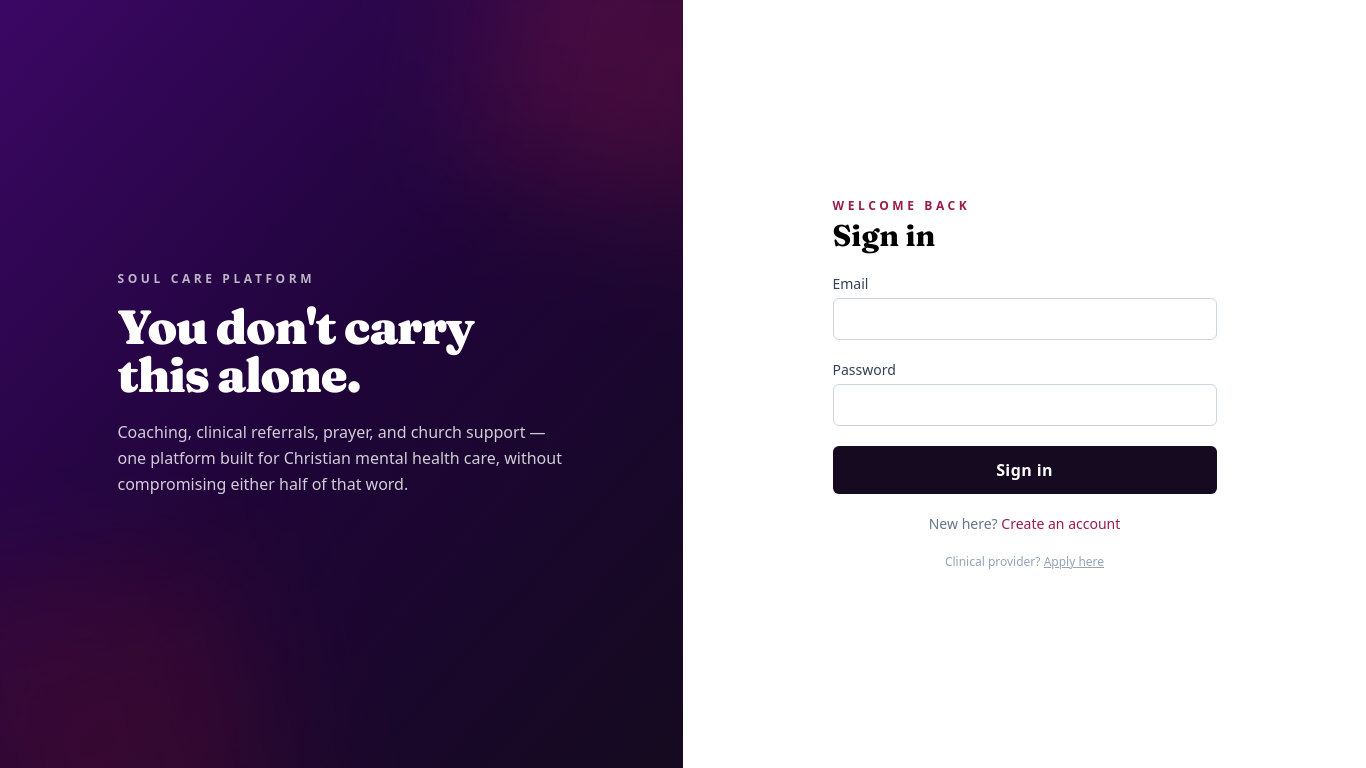
Test: App — login flow › logs in as a coach and reaches the coach dashboard
In the field labelled "Email": (1024, 319) [832,298,1216,340], type "coach@example.com"
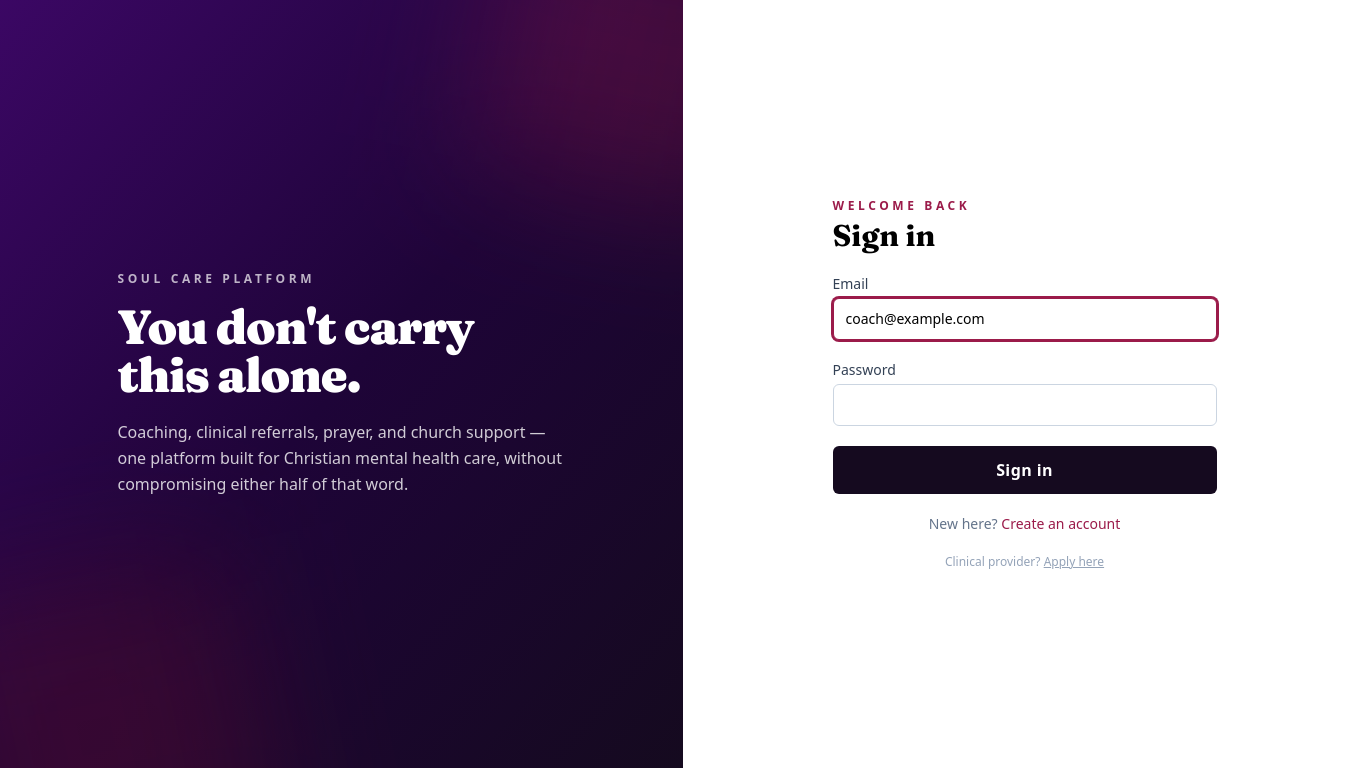
In the password field labelled "Password": (1024, 405) [832,384,1216,426], type "correcthorsebattery"
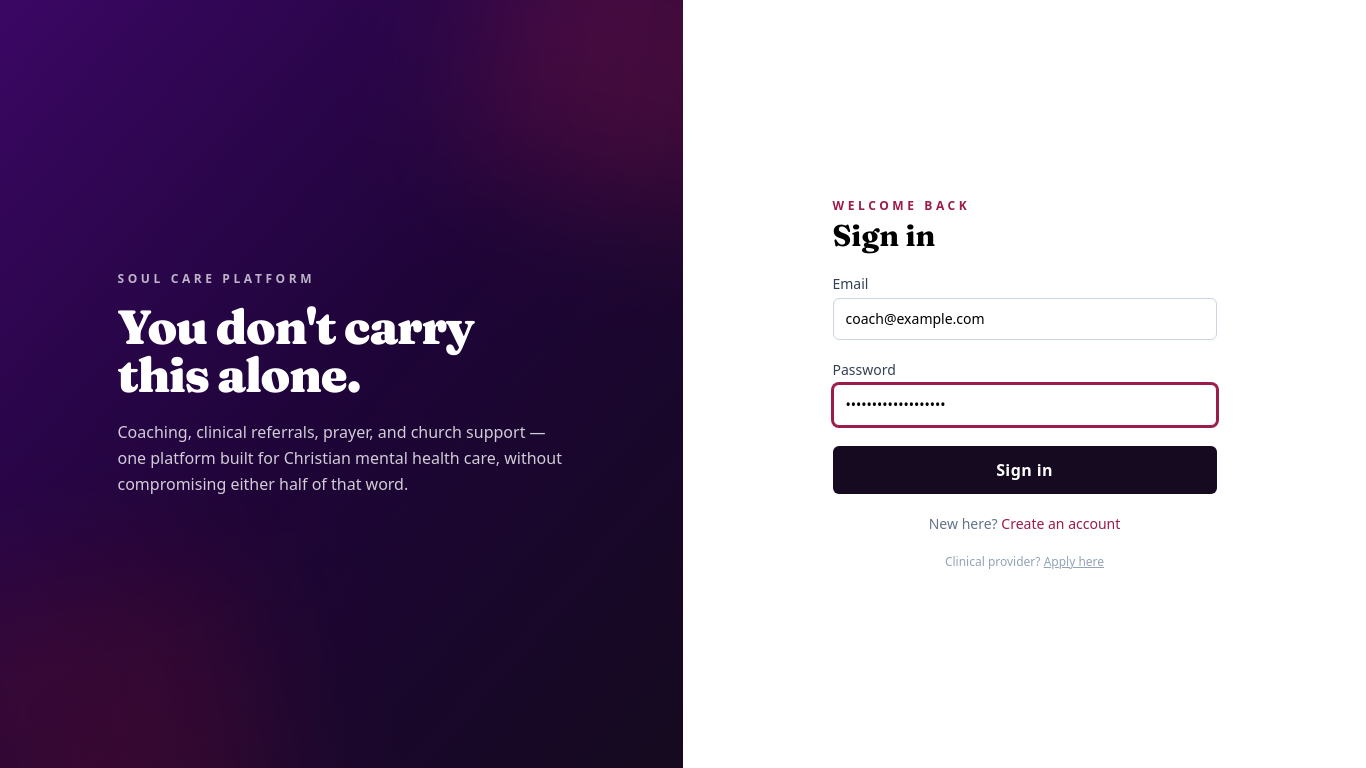
Click the button "Sign in": (1024, 470) [832,446,1216,494]
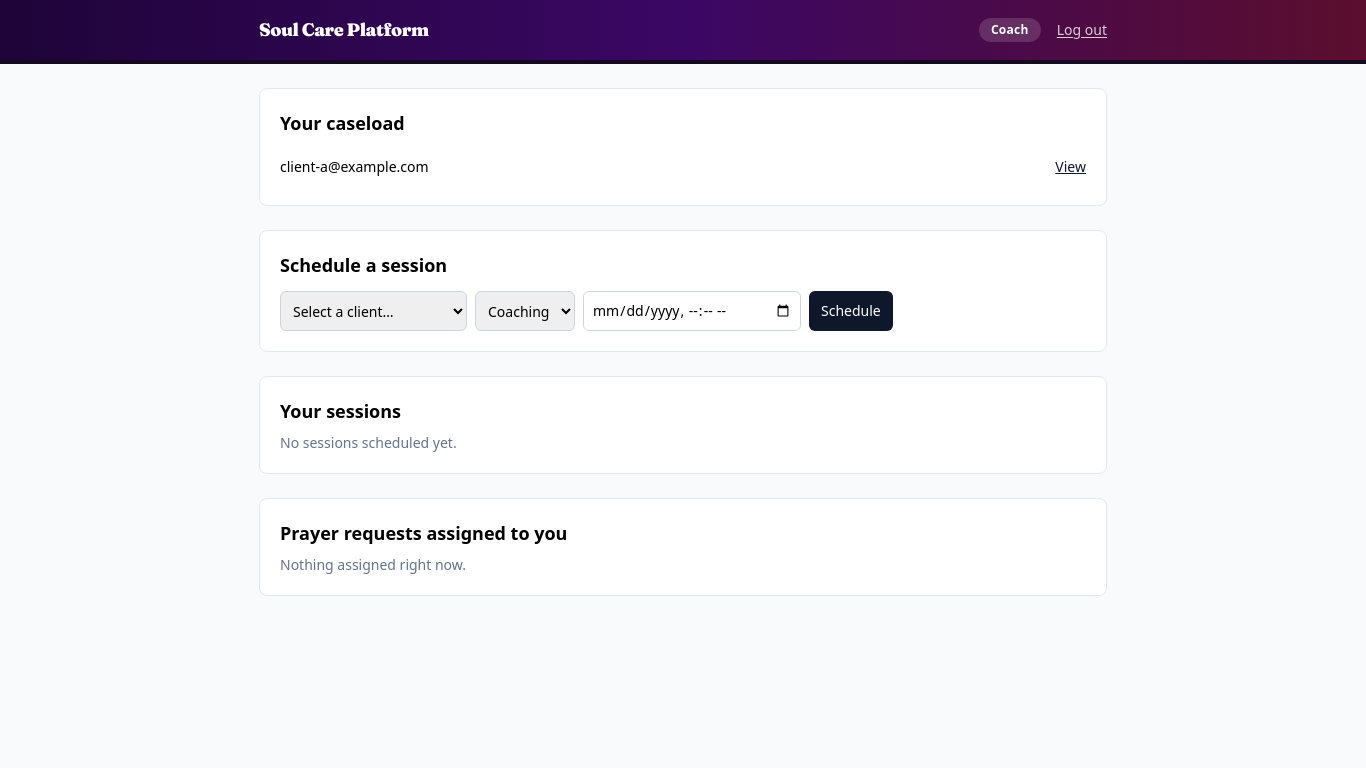
expect the heading "Your caseload" is shown: met, box [280,111,405,135]
expect the text "client-a@example.com" is shown: met, box [280,157,429,177]
